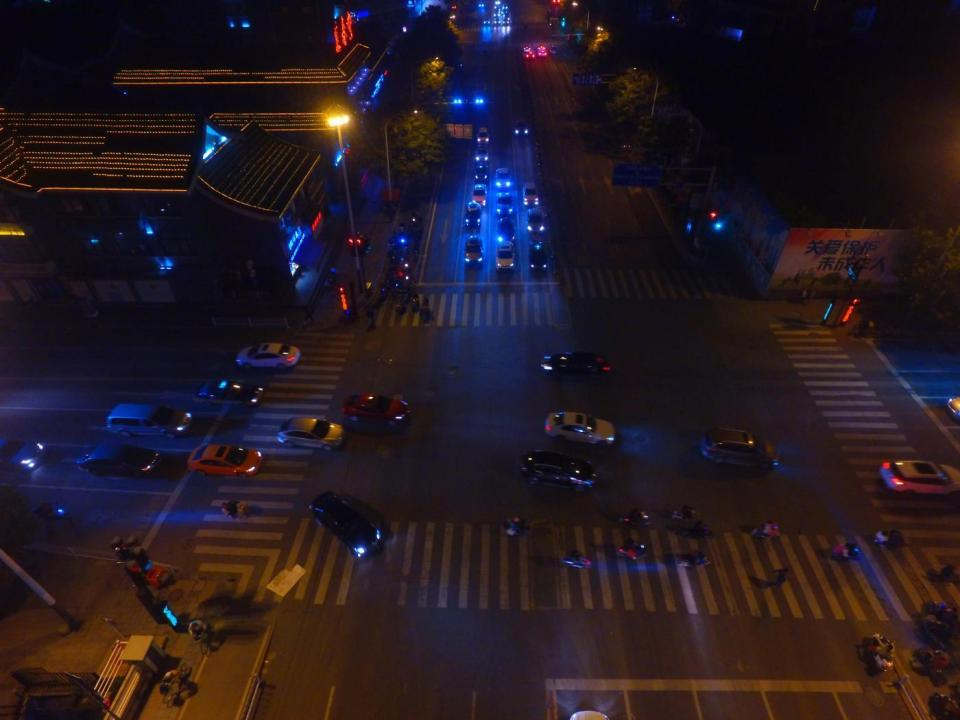car: (305, 491, 383, 560), (698, 425, 781, 472), (518, 448, 598, 492), (879, 456, 960, 496), (542, 408, 616, 448), (74, 443, 162, 475), (342, 390, 414, 429), (277, 412, 345, 452), (188, 444, 264, 477), (540, 348, 615, 378), (197, 375, 264, 406), (234, 341, 299, 371), (0, 437, 48, 472), (463, 235, 485, 265), (528, 240, 548, 272), (496, 240, 516, 269), (494, 191, 514, 217), (526, 208, 545, 235), (496, 217, 516, 241), (465, 200, 482, 228), (522, 182, 540, 207), (494, 166, 513, 189), (470, 182, 487, 206), (513, 118, 530, 137), (474, 162, 490, 182), (476, 125, 490, 145), (474, 145, 490, 162), (549, 44, 558, 55), (524, 51, 535, 59), (522, 45, 533, 53), (538, 49, 547, 57), (538, 43, 546, 52)
van: (105, 400, 194, 437)
